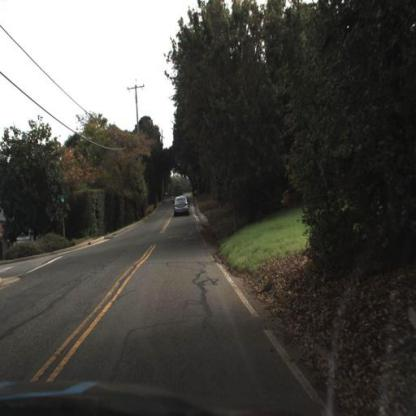car: (173, 194, 192, 220)
